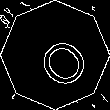O_NW: (22, 22, 88, 88)
